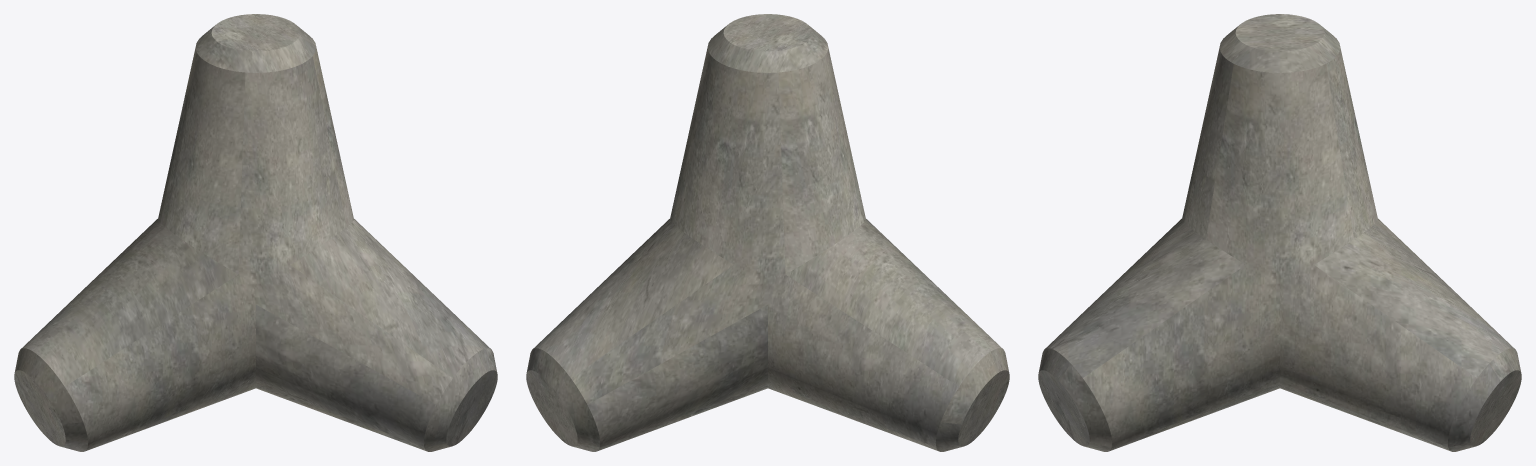
File: tetrapod.lod0.glb
3 views of the same model, side by side, from view 1: azimuth 30°, elevation 25°; view 2: azimuth 150°, elevation 25°; view 3: azimuth 270°, elevation 25° (orthographic).
Parts seen in each view (by area): view 1: Cylinder03_01 - Default_0; view 2: Cylinder03_01 - Default_0; view 3: Cylinder03_01 - Default_0.
Boxes of the visible parts, x1,y1,x2,y2 form: Cylinder03_01 - Default_0: (14,14,497,451); Cylinder03_01 - Default_0: (526,14,1009,451); Cylinder03_01 - Default_0: (1038,14,1521,451).
Bounding box in the file's own units: 2.34 × 2.19 × 2.6.
Materials: 1 (1 with a texture image).
